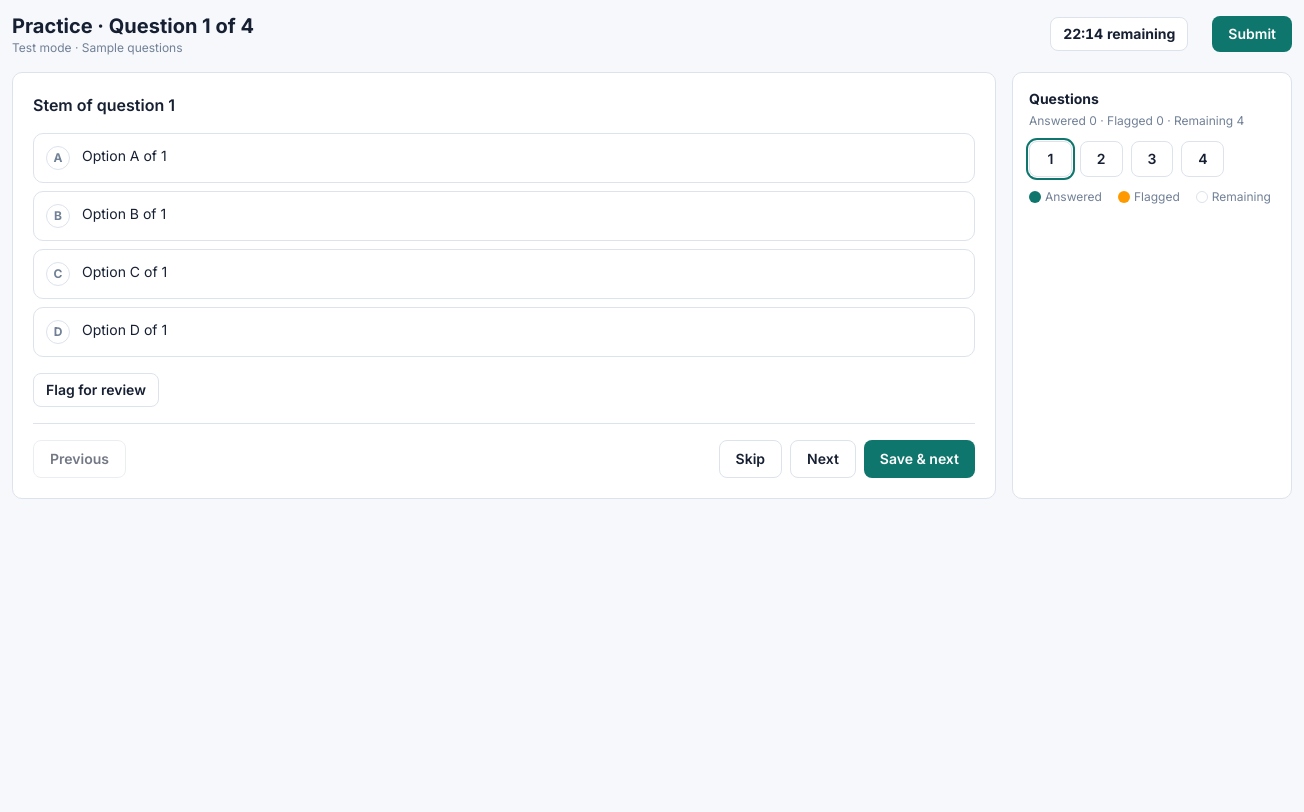
Scenario: Workspace navigation panel and refresh restore › shows Answered / Flagged / Remaining and updates
The image size is (1304, 812).
Press a
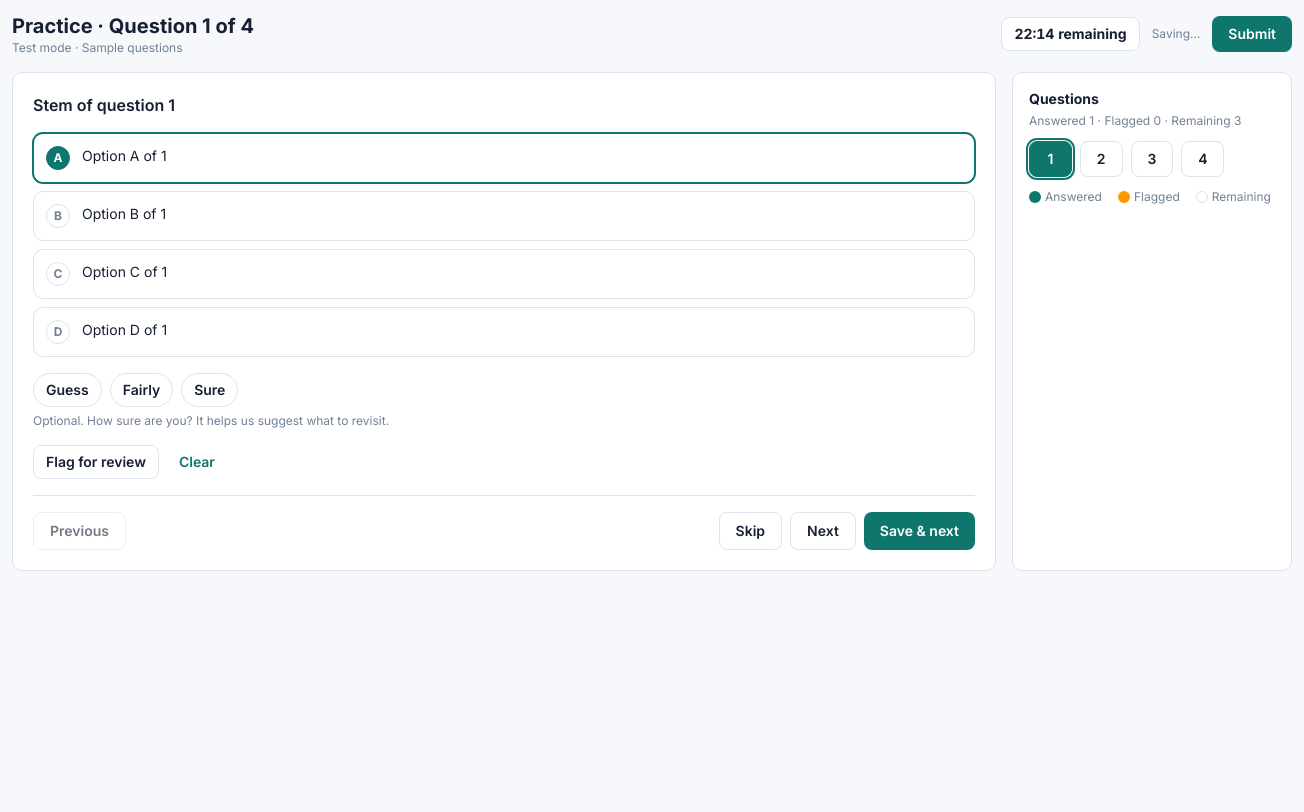
Press f
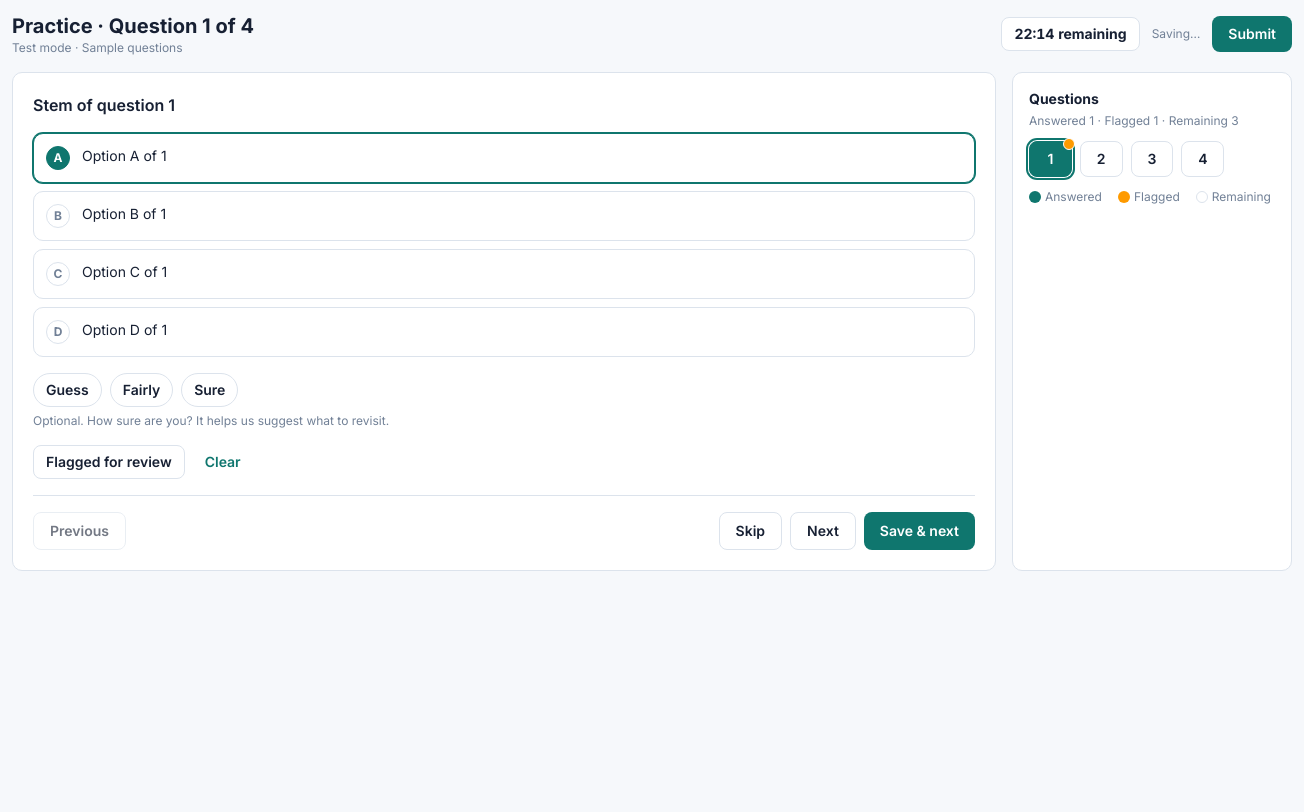
Expected: the text with test id "nav-counts" reads "Answered 1 · Flagged 1 · Remaining 3", [1029, 113, 1239, 128]
Expected: the button named "Question 1, answered, flagged" is shown, [1029, 141, 1072, 177]
Click the button named "Question 3, not answered".
click(1152, 159)  # box [1131, 141, 1173, 177]
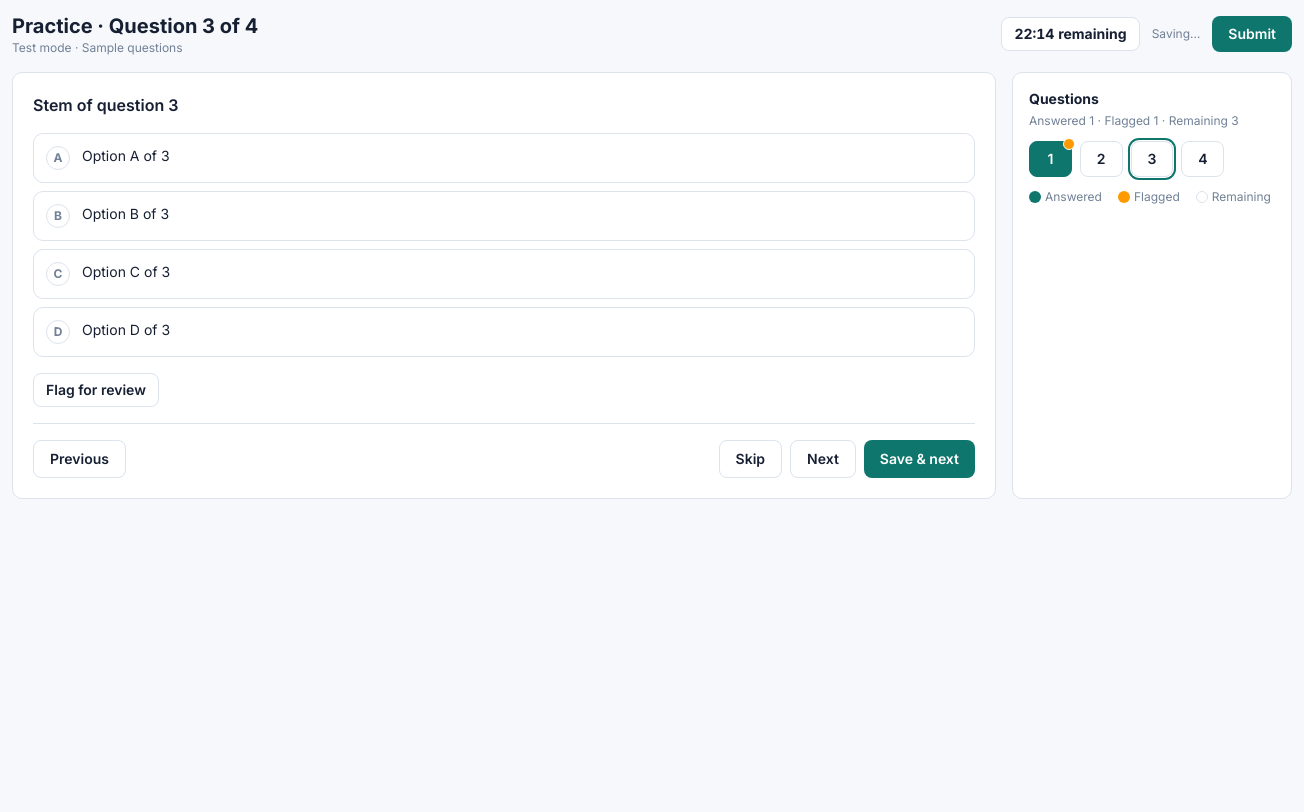
Expected: the heading "Practice · Question 3 of 4" is shown, [12, 12, 258, 40]
